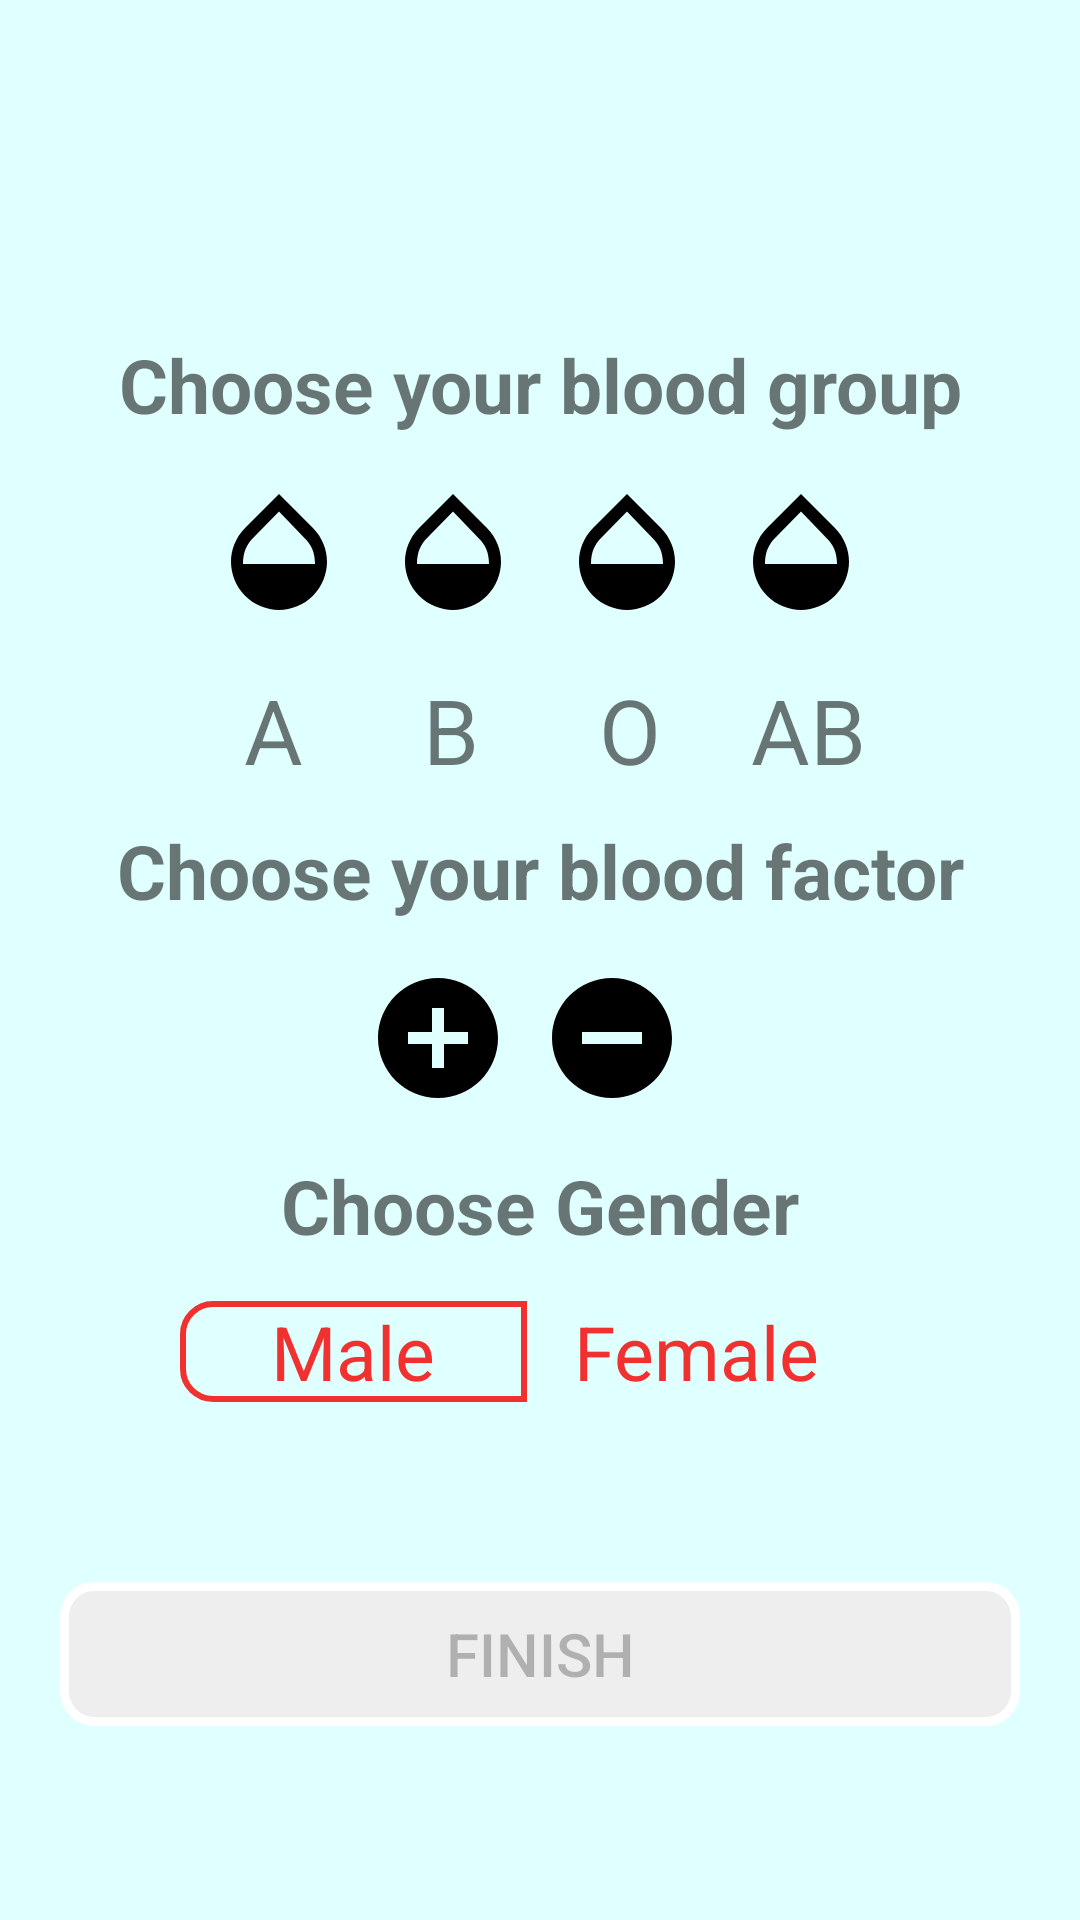

Icons on this 1080px×1920px Android screen, each with its box as BBox(x1, y1, x2, y2):
add circle: BBox(378, 978, 498, 1098)
opacity: BBox(231, 494, 327, 610), BBox(405, 494, 501, 610), BBox(579, 494, 675, 610), BBox(753, 494, 849, 610)
remove circle: BBox(552, 978, 672, 1098)
